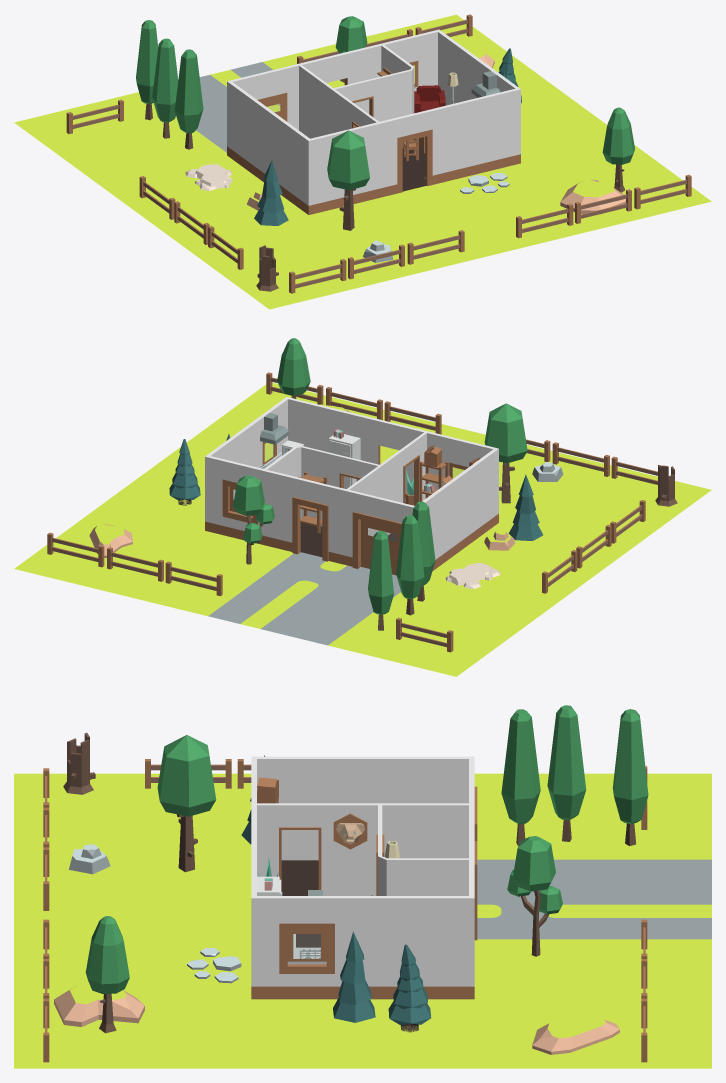
The model's file is Tile_House_2_Base.fbx.
The picture shows the model from 3 angles, top to bottom: view 1: azimuth 30°, elevation 25°; view 2: azimuth 150°, elevation 25°; view 3: azimuth 270°, elevation 25°; orthographic projection. The views are drawn at different scales.
Visible parts, largest first — view 1: Plane; view 2: Plane; view 3: Plane.
Part boxes in pixels (bbox=[...]): Plane: bbox=[14, 14, 711, 309]; Plane: bbox=[14, 338, 711, 676]; Plane: bbox=[14, 705, 711, 1068].
Bounding box in the file's own units: 250 × 56.4 × 250.
